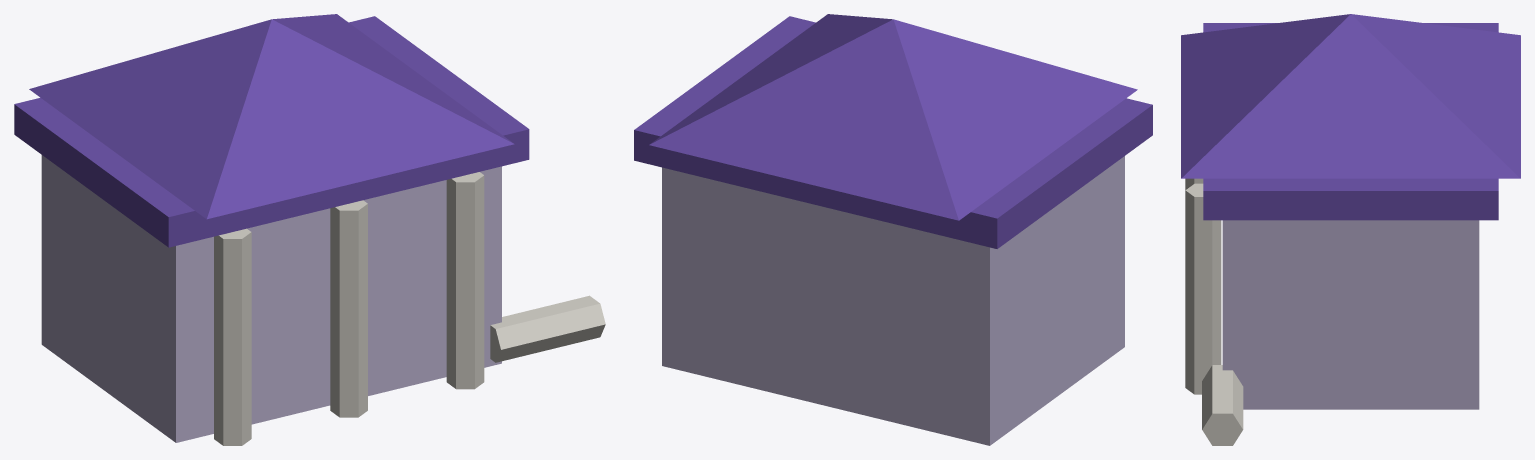
File: archive.glb
3 views of the same model, side by side, from view 1: azimuth 30°, elevation 25°; view 2: azimuth 150°, elevation 25°; view 3: azimuth 270°, elevation 25° (orthographic). The views are drawn at different scales.
Visible parts, largest first — view 1: archive; view 2: archive; view 3: archive.
Part boxes in pixels (bbox=[...]): archive: bbox=[14, 14, 605, 445]; archive: bbox=[634, 14, 1152, 445]; archive: bbox=[1181, 14, 1520, 445].
Size of the model in its own units: 0.375 by 0.275 by 0.2647.
